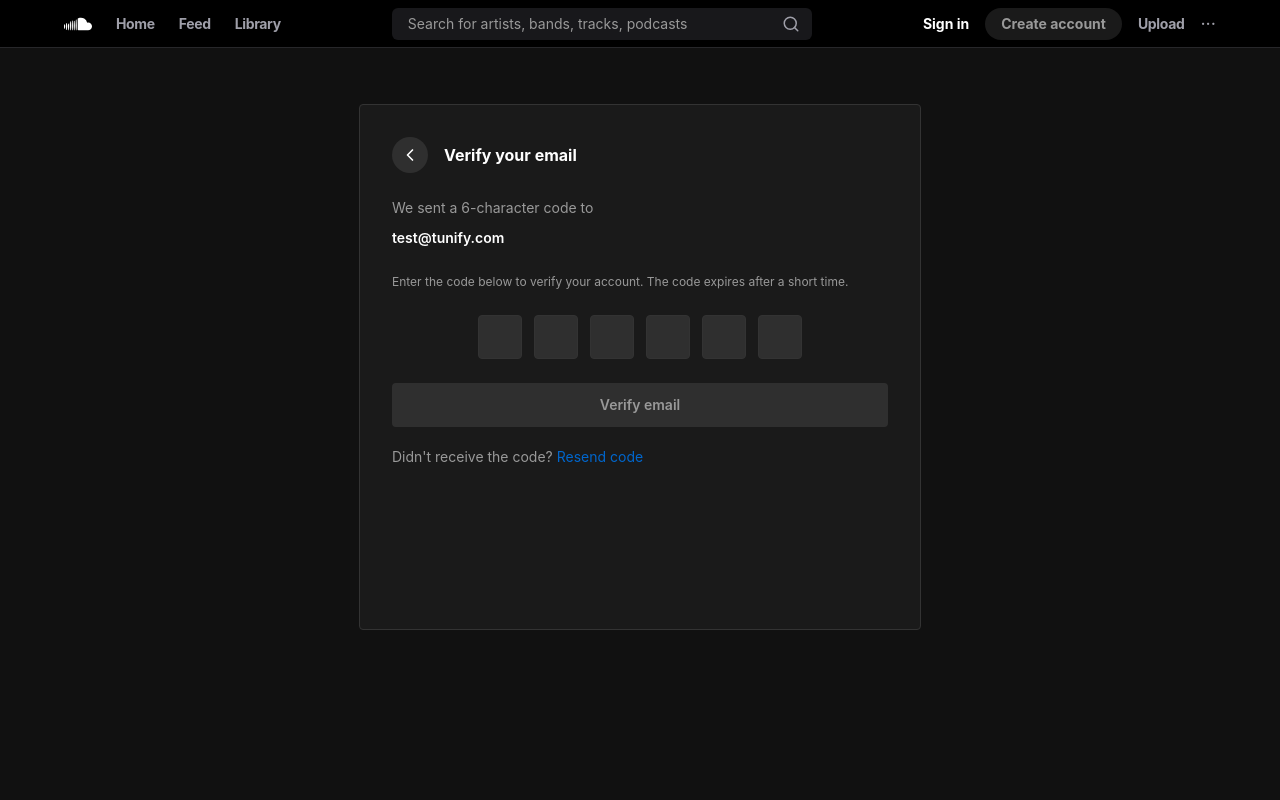
Test: VerifyEmailPage — verify flow › shows error message on failed verification
In the 2nd field: (500, 337) [478,315,522,359], type "W"
In the 3rd field: (556, 337) [534,315,578,359], type "R"
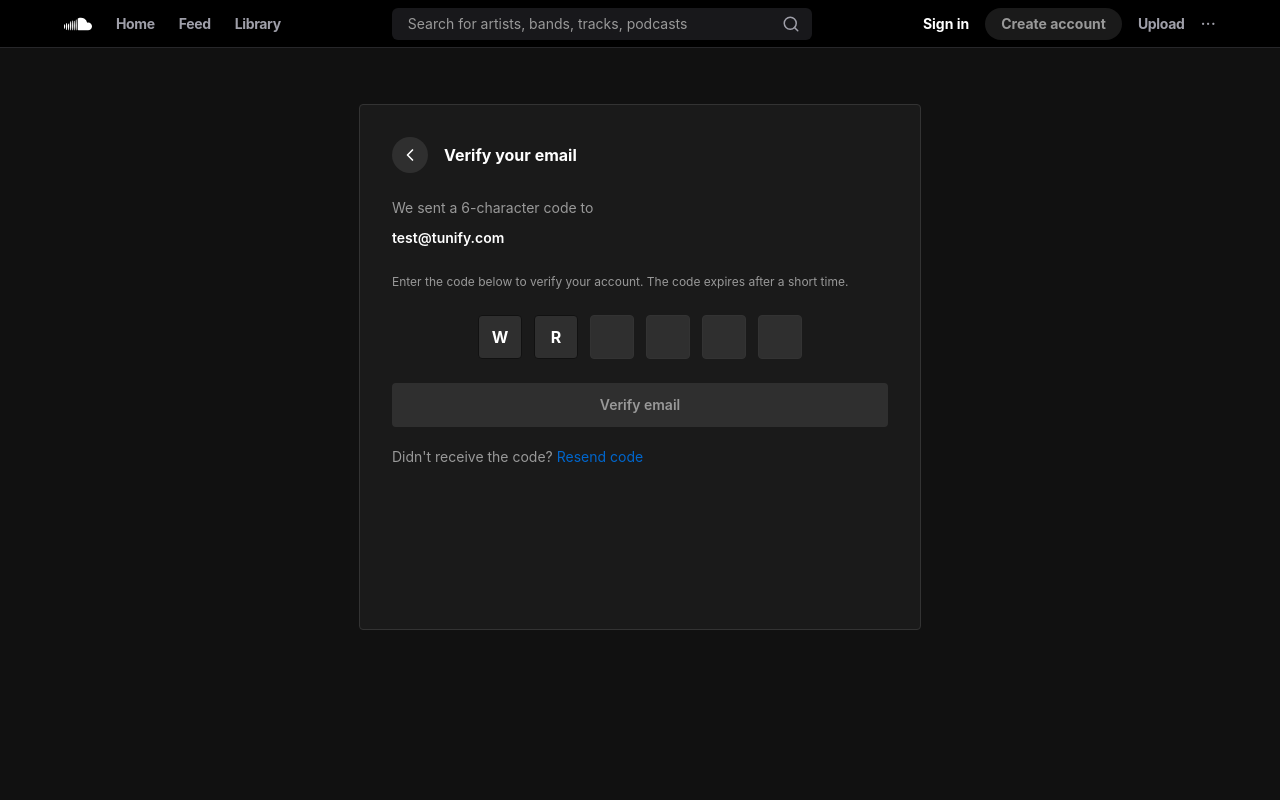
In the 4th field: (612, 337) [590,315,634,359], type "O"
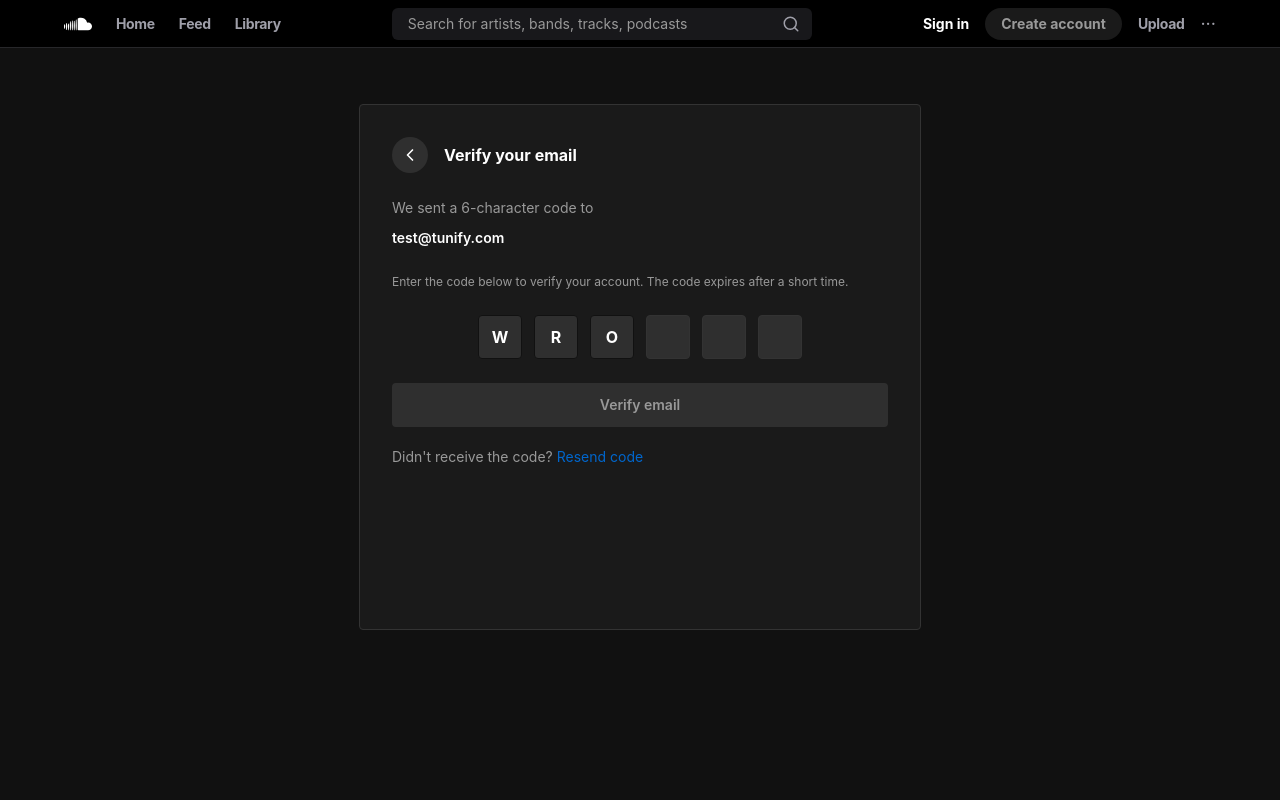
In the 5th field: (668, 337) [646,315,690,359], type "N"
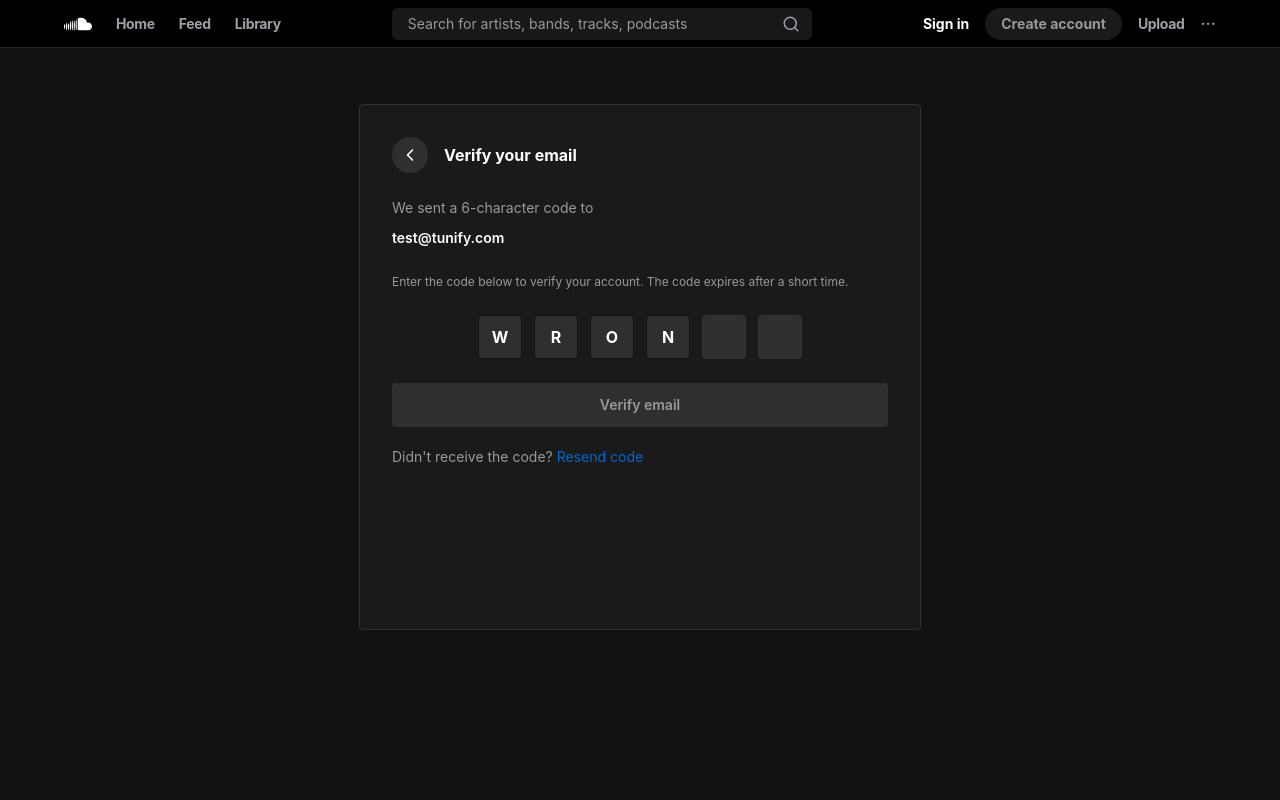
In the 6th field: (724, 337) [702,315,746,359], type "G"
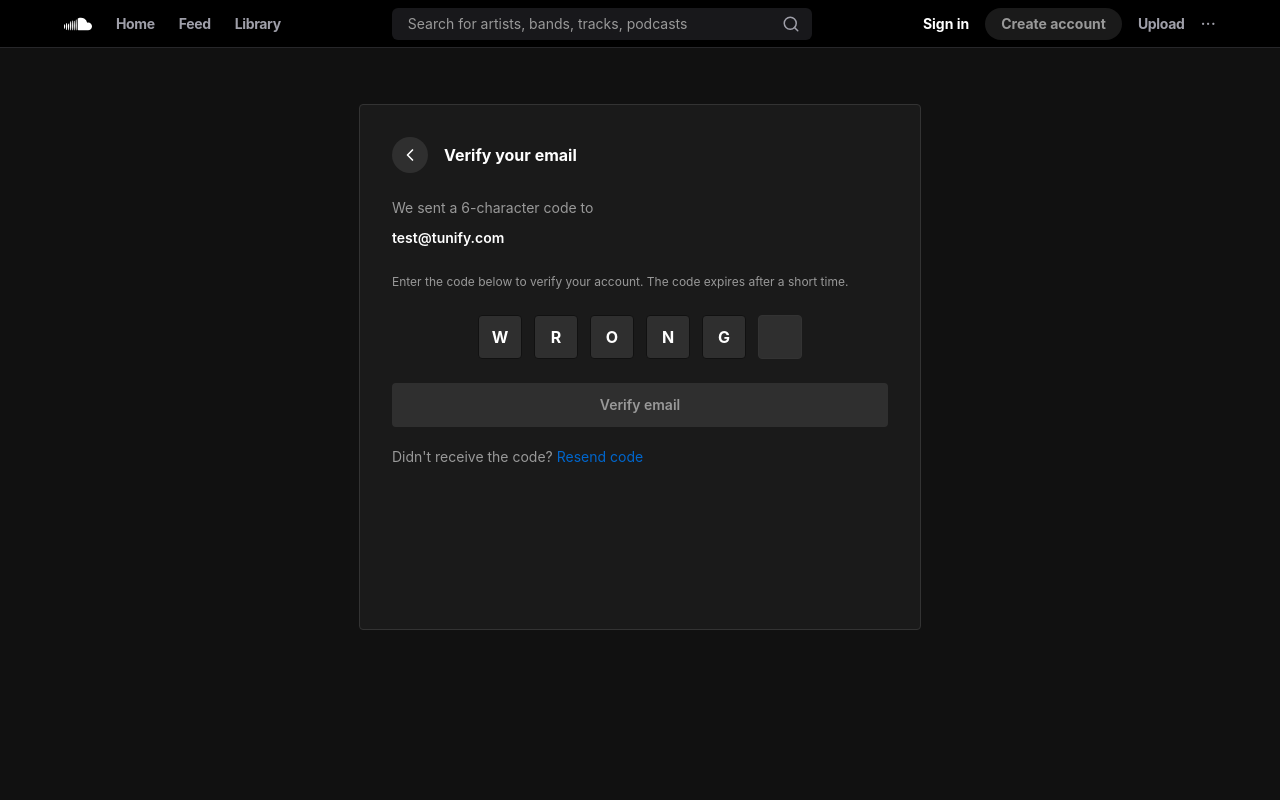
In the 7th field: (780, 337) [758,315,802,359], type "1"
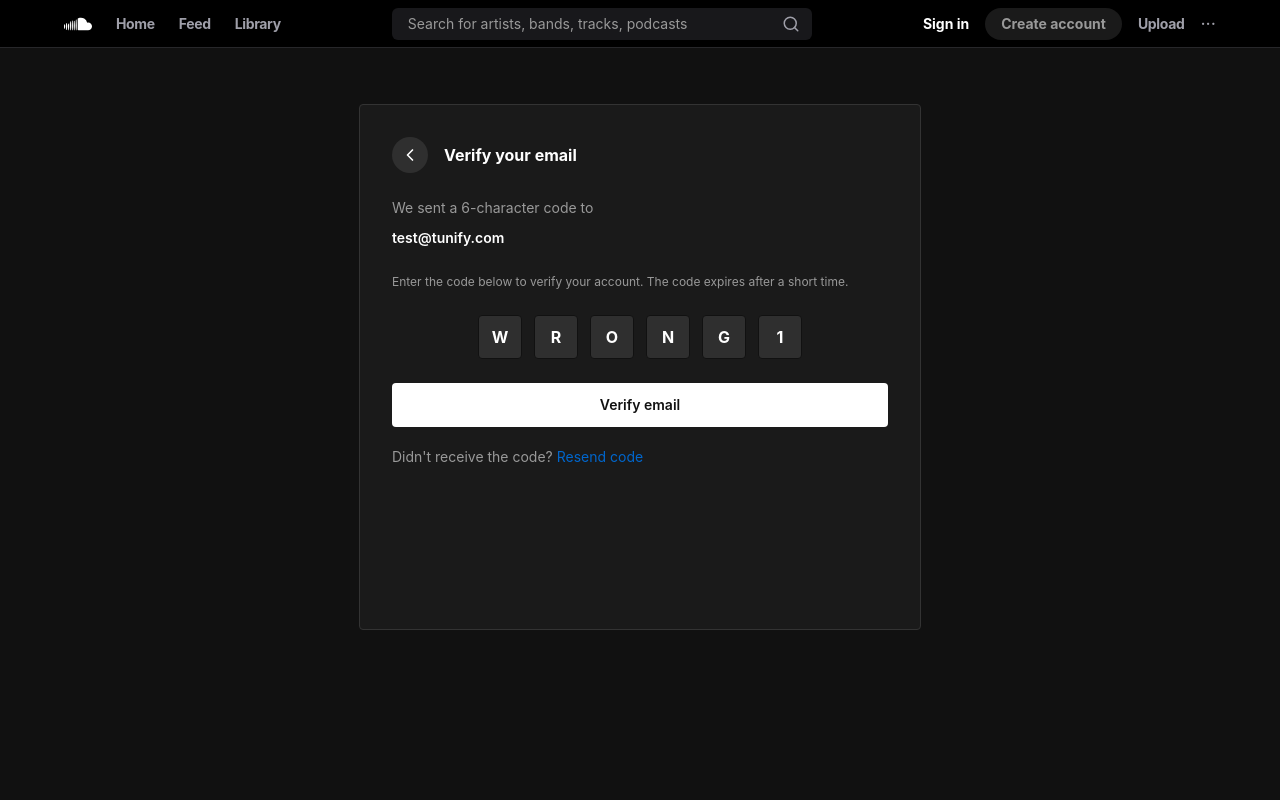
Check: the button "Verify email" is enabled
Click the button "Verify email": (640, 405) [392,383,888,427]
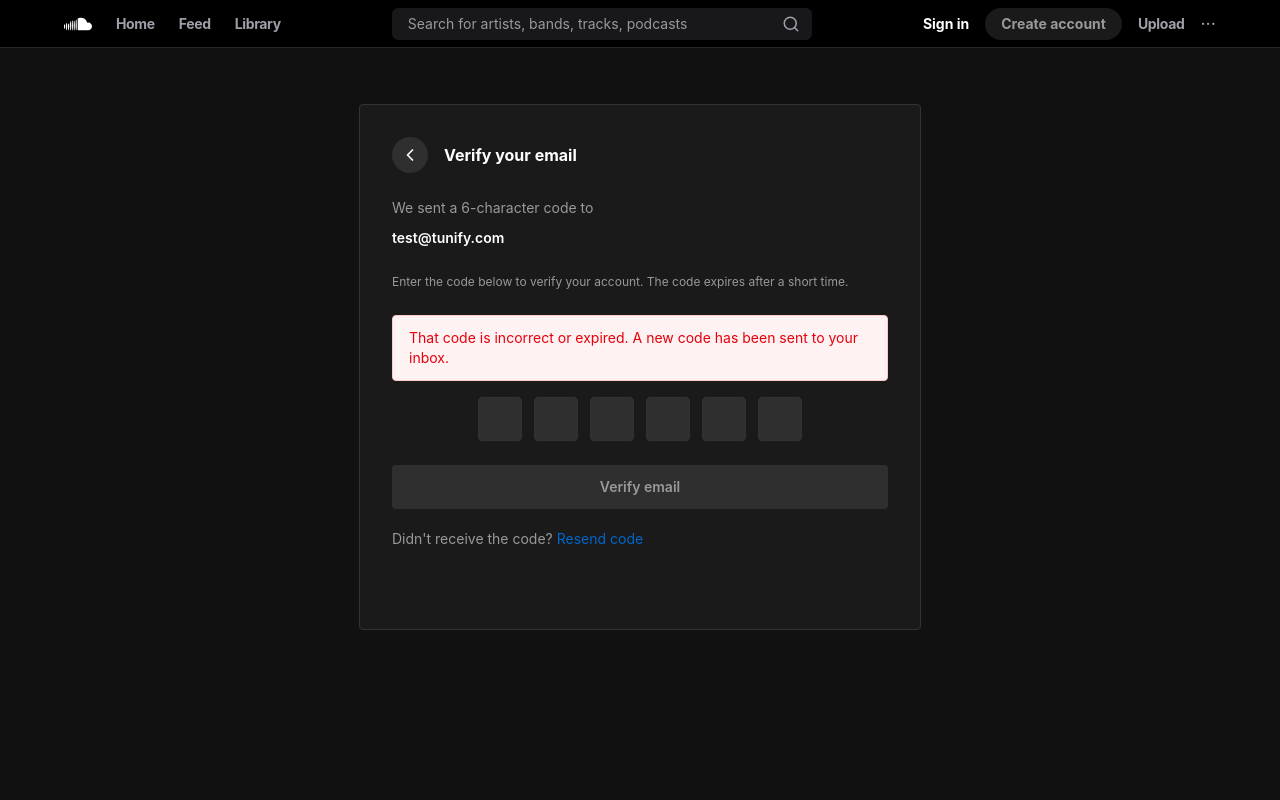
Check: the message "That code is incorrect or expired. A new code has been sent to your inbox." is shown, box [392,315,888,381]
